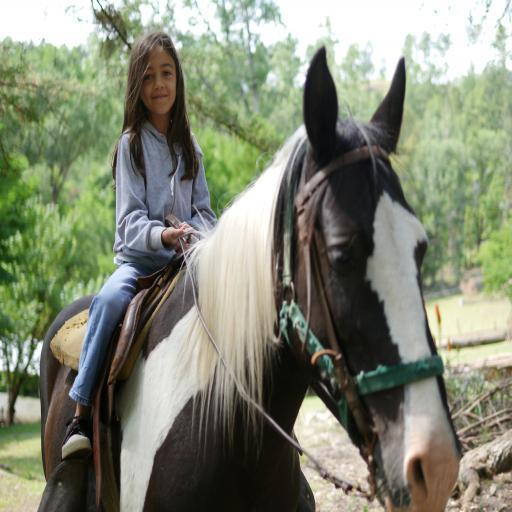horse: (40, 45, 463, 512)
